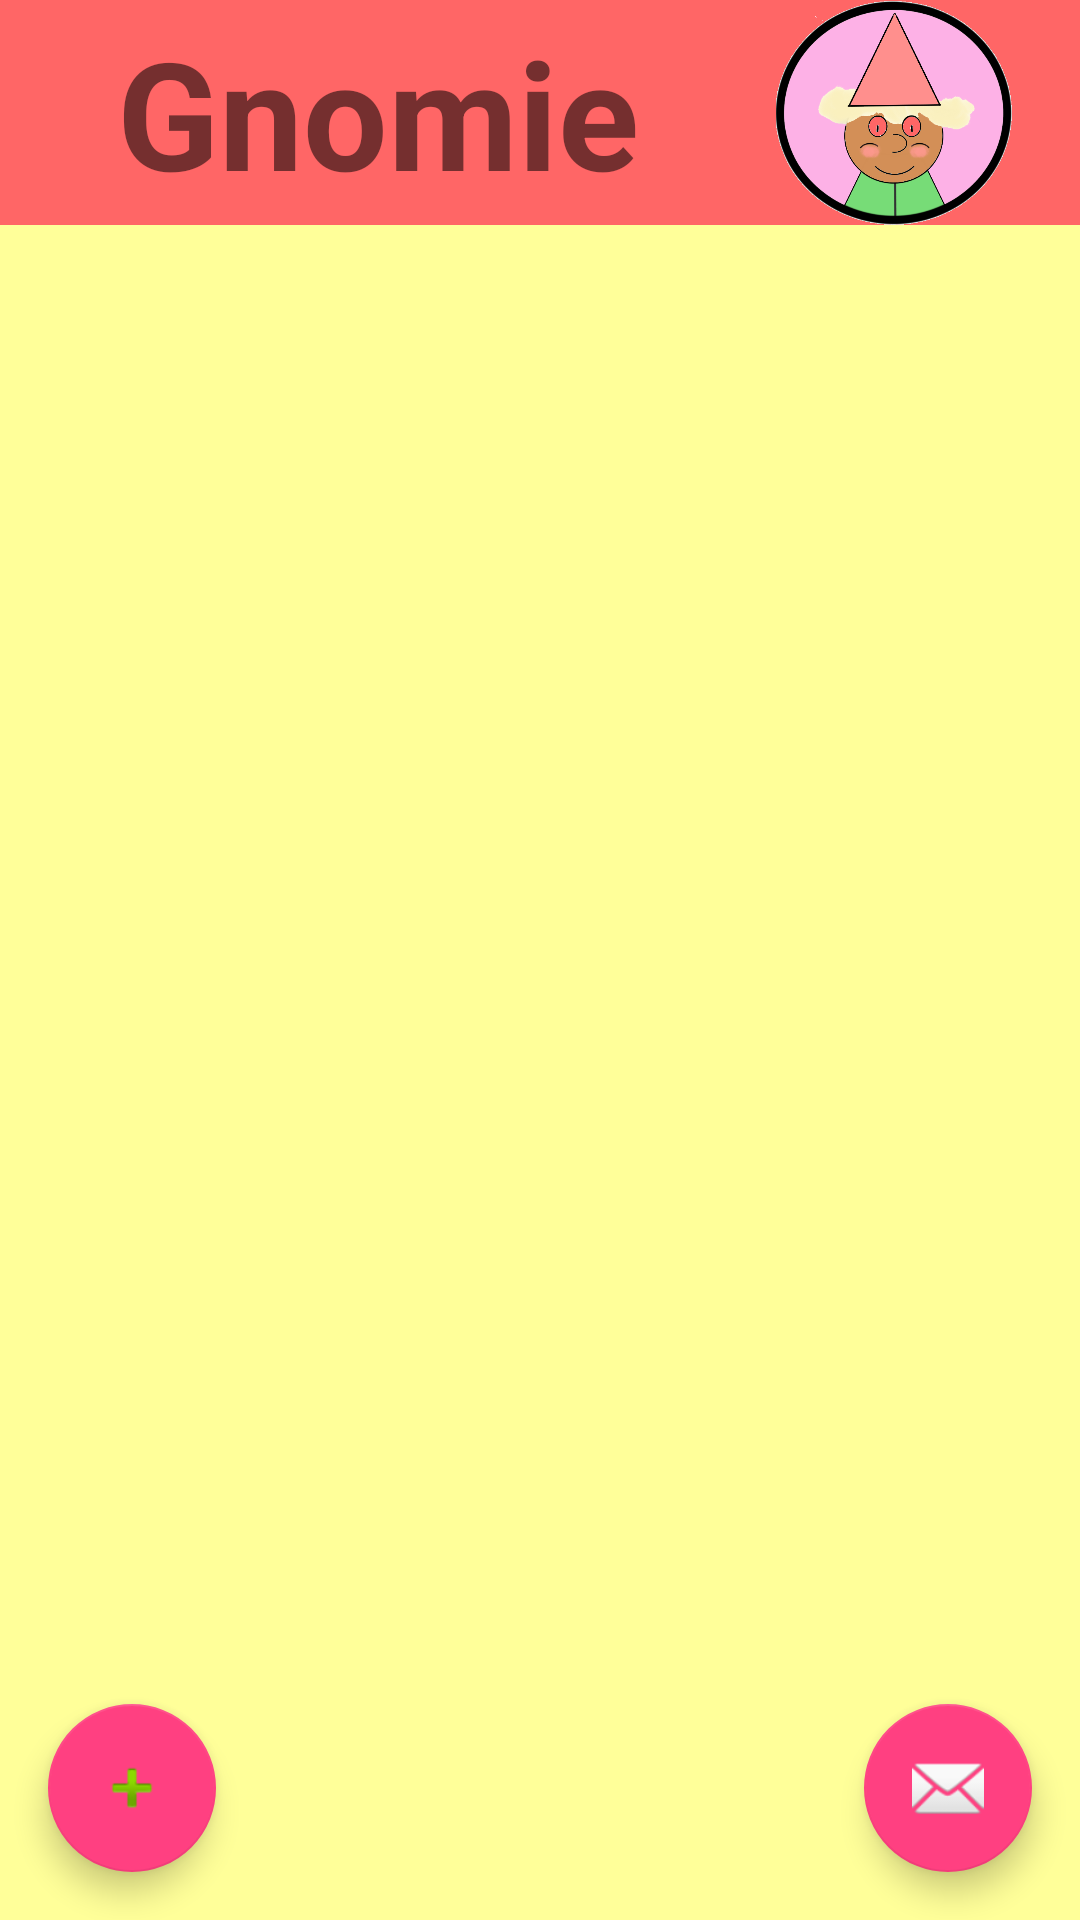

Icons on this 1080 × 1920 Android screen, each with its box as (x1, y1, x2, y2):
add: (48, 1704, 216, 1872)
email: (864, 1704, 1032, 1872)
gnome girl: (776, 1, 1012, 225)
